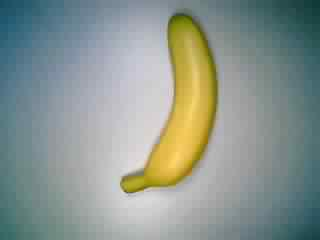banana: (119, 14, 216, 195)
